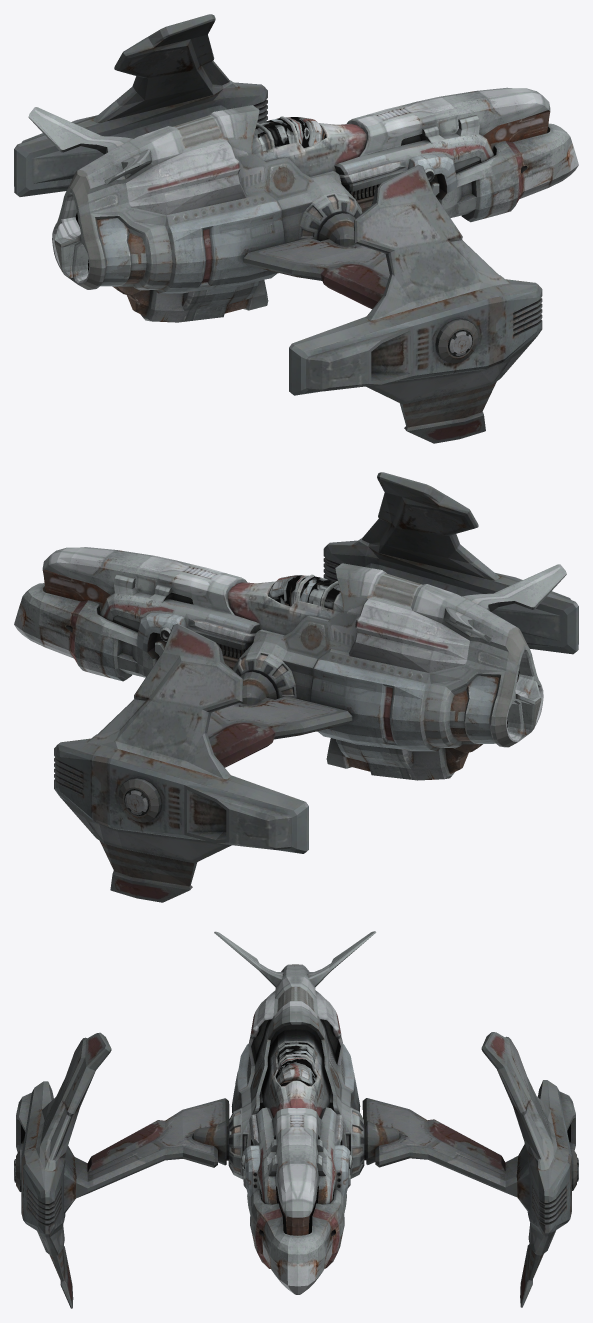
The model's file is argon_m5.obj.
3 views of the same model, one above another, from view 1: azimuth 30°, elevation 25°; view 2: azimuth 150°, elevation 25°; view 3: azimuth 270°, elevation 25° (orthographic). The views are drawn at different scales.
Parts seen in each view (by area): view 1: argon_M5; view 2: argon_M5; view 3: argon_M5.
Part boxes in pixels (bbox=[...]): argon_M5: bbox=[14, 14, 578, 443]; argon_M5: bbox=[14, 472, 578, 902]; argon_M5: bbox=[14, 931, 578, 1308].
Bounding box in the file's own units: 77.93 × 39.31 × 80.03.
1 material, 1 textured.
